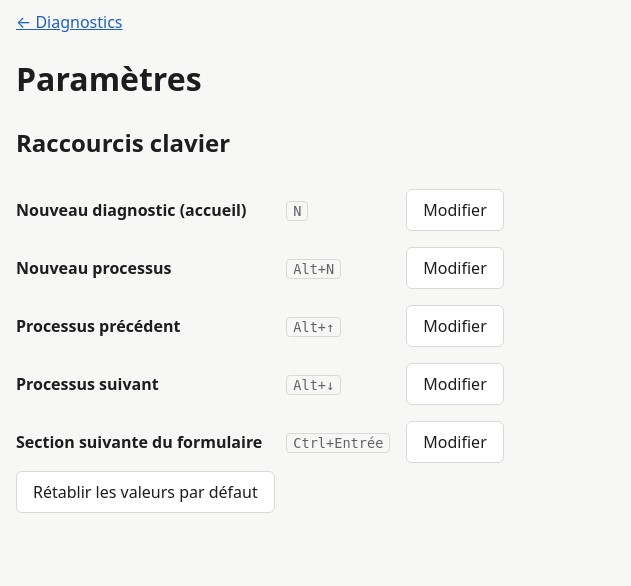
Test case: Paramètres › signale deux actions qui partagent une combinaison
Click the button "Modifier" in the row of "Processus suivant". click: (455, 384)
box: [406, 363, 504, 405]
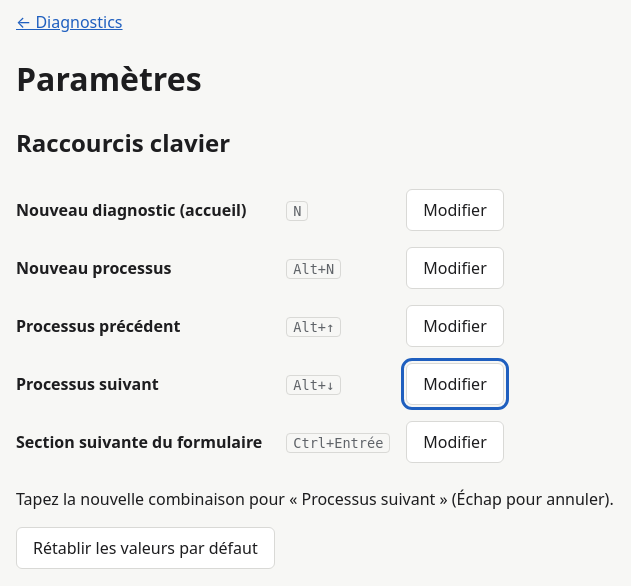
Type keys "{Alt>}n{/Alt}"
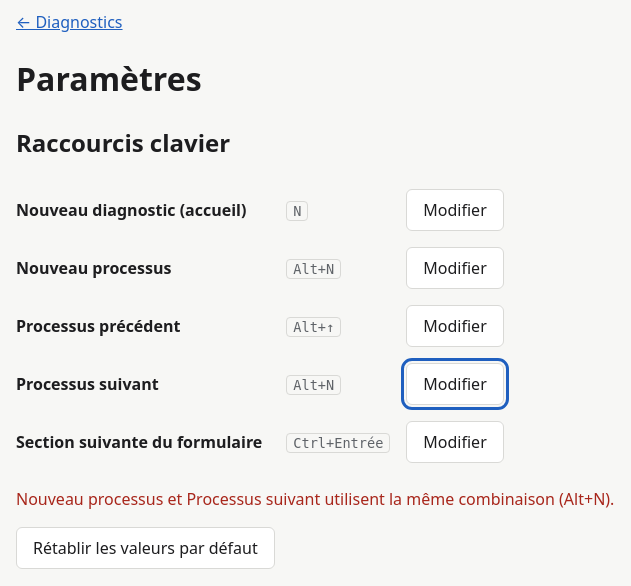
Expected: the message reads "Nouveau processus et Processus suivant utilisent la même combinaison (Alt+N).", [16, 488, 614, 510]
